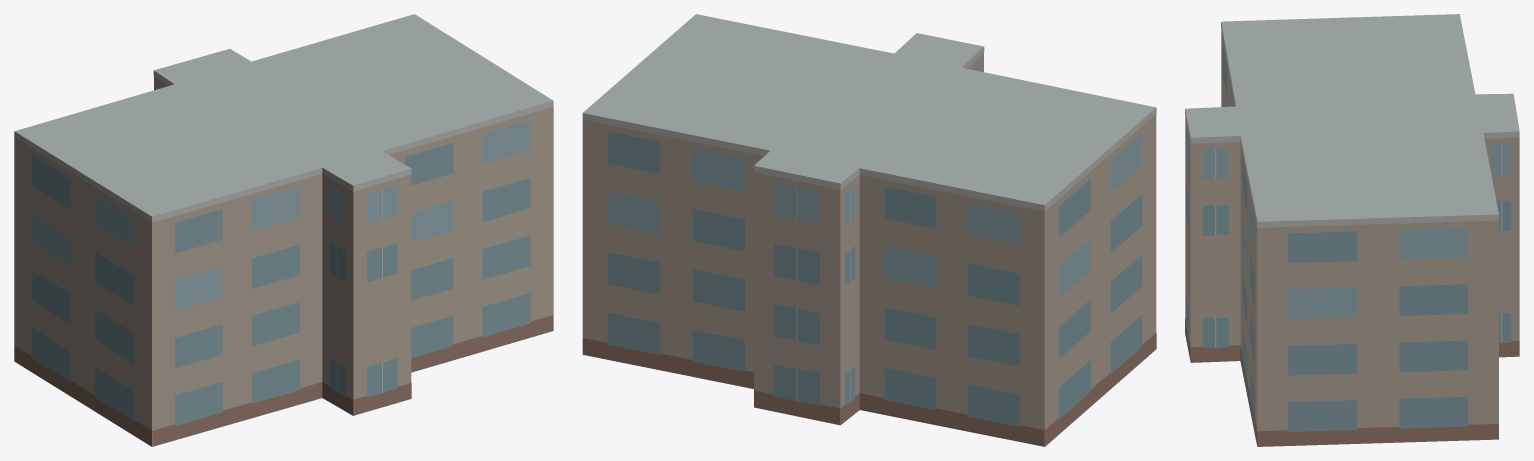
File: survey-upis-32757100.glb
3 renders of one model, left to right at view 1: azimuth 30°, elevation 25°; view 2: azimuth 150°, elevation 25°; view 3: azimuth 270°, elevation 25°, orthographic. The views are drawn at different scales.
Visible parts, largest first — view 1: survey-upis-32757100.tmp; view 2: survey-upis-32757100.tmp; view 3: survey-upis-32757100.tmp.
Part boxes in pixels (x1,y1,x2,y2): survey-upis-32757100.tmp: (14,14,553,446); survey-upis-32757100.tmp: (582,14,1156,446); survey-upis-32757100.tmp: (1185,14,1519,446).
Size of the model in its own units: 18.23 by 9.2 by 12.41.
